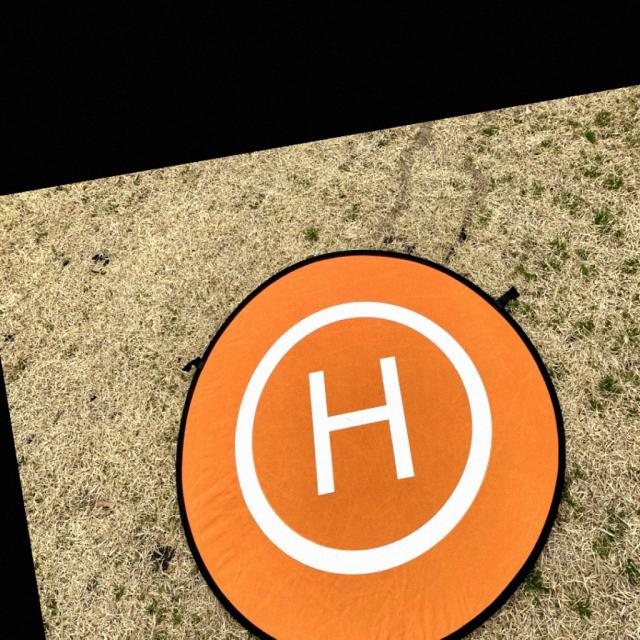helipad: (225, 294, 496, 580)
